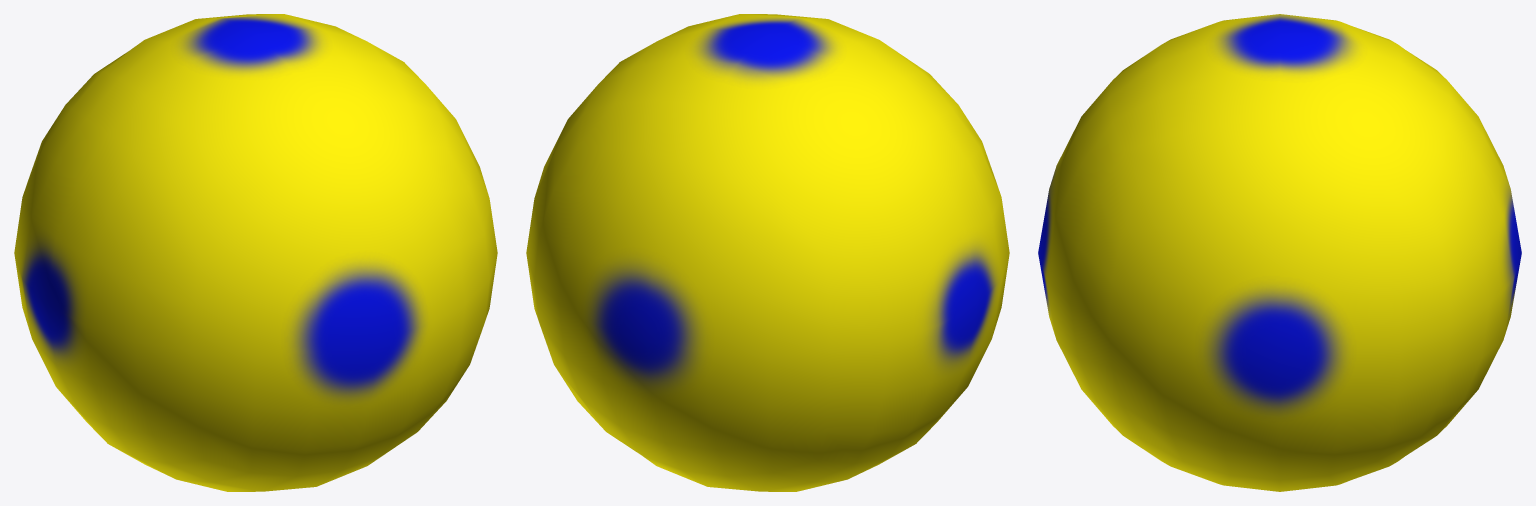
File: ball.glb
3 renders of one model, left to right at view 1: azimuth 30°, elevation 25°; view 2: azimuth 150°, elevation 25°; view 3: azimuth 270°, elevation 25°, orthographic.
Visible parts, largest first — view 1: Cube; view 2: Cube; view 3: Cube.
Part boxes in pixels (x1,y1,x2,y2): Cube: (14, 14, 497, 491); Cube: (526, 14, 1009, 491); Cube: (1038, 14, 1521, 491).
Bounding box in the file's own units: 0.2802 × 0.2802 × 0.2802.
1 material, 1 textured.
